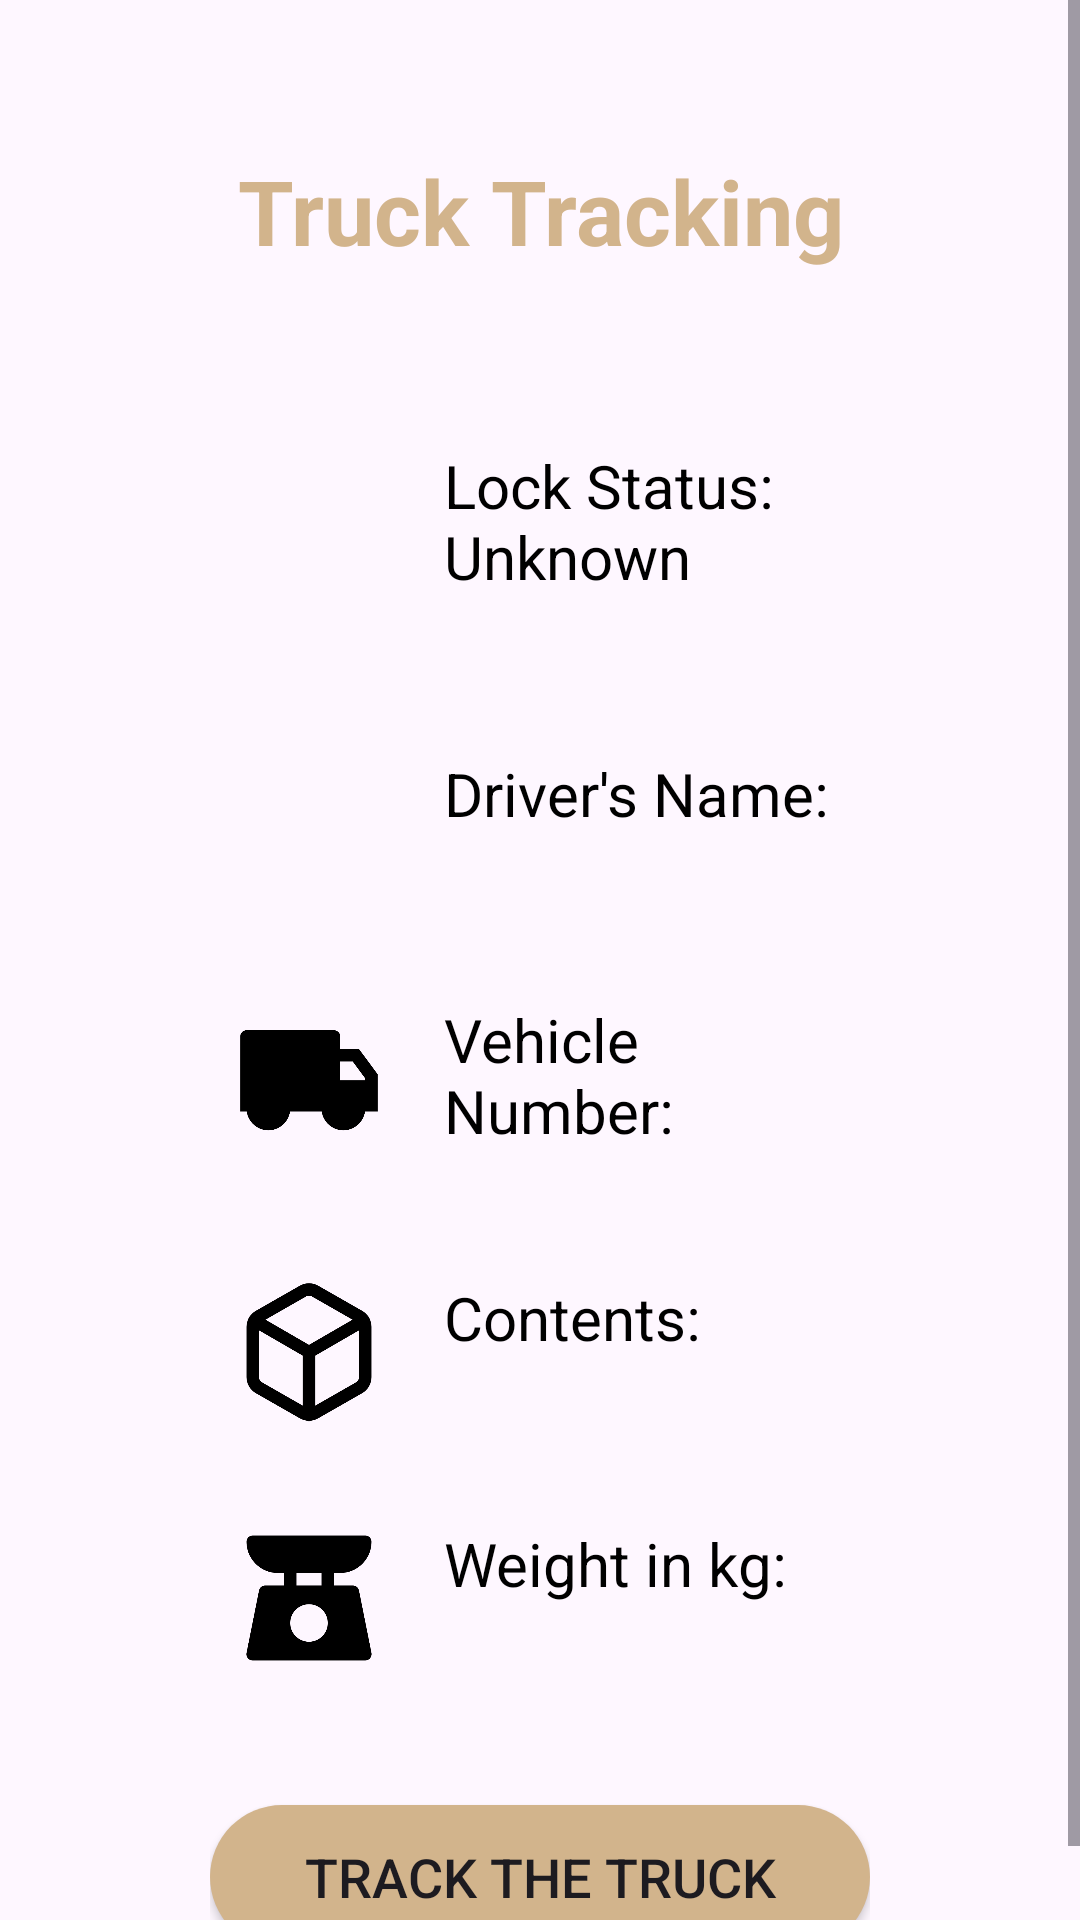

Icon click points for this 1080x1920 phone screenshot, format (x=x, y=y):
truck: (x=309, y=1080)
